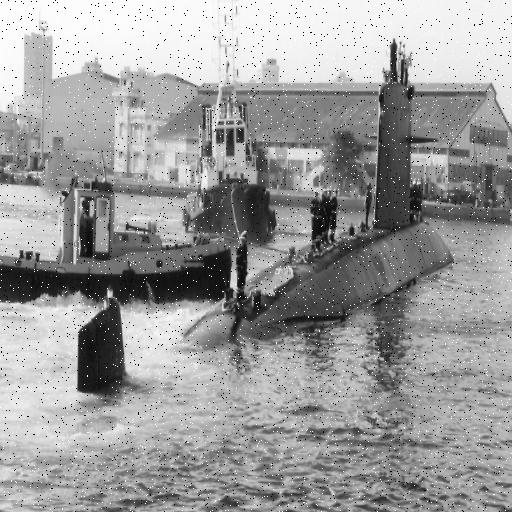submarine: (77, 40, 466, 398)
